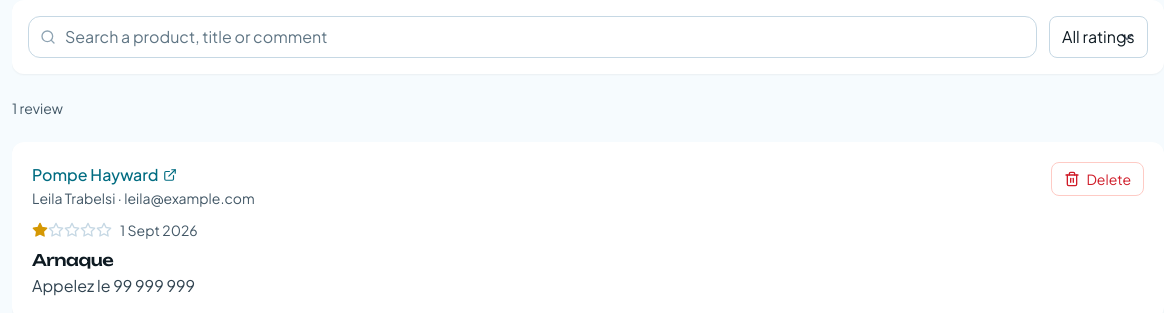
Test: admin reviews page › lists reviews with the product and the customer, filters by rating and deletes
The image size is (1164, 313).
Check: the heading "Arnaque" is shown, box [32,250,114,270]
Check: the link "leila@example.com" is shown, box [124,189,255,207]
Select "1 star" in the dropdown named "Filter by rating" at x=1098, y=37, box [1049,16,1148,58]
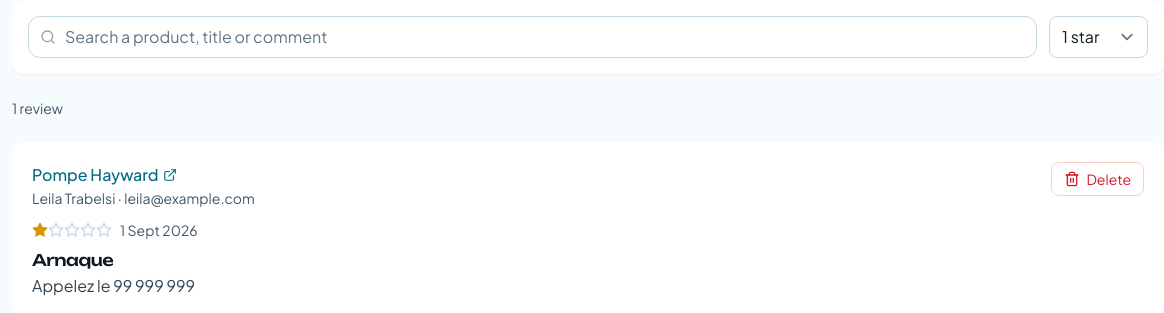
Click the button "Delete".
click(1098, 179)  # box [1051,162,1144,196]
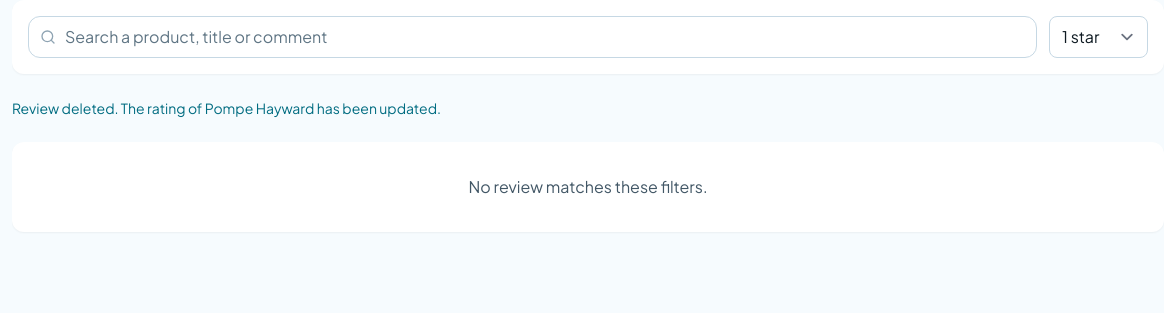
Check: the text "Review deleted. The rating of Pompe Hayward has been updated." is shown, box [12,99,441,117]
Check: the text "No review matches these filters." is shown, box [12,142,1163,232]
